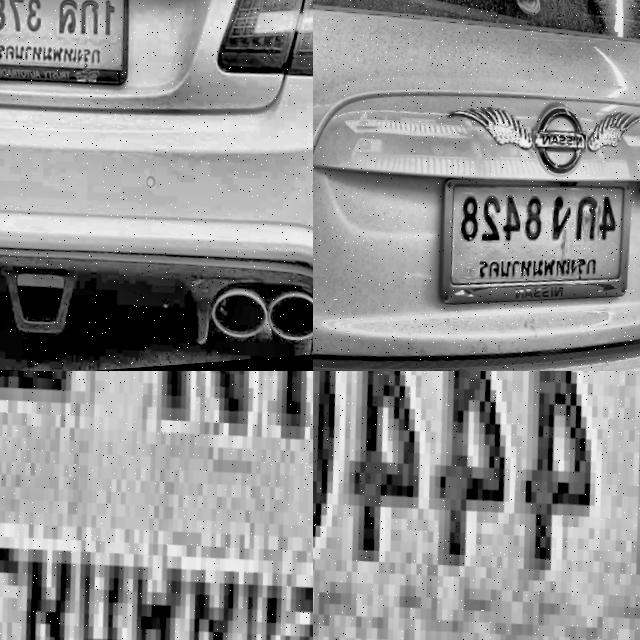license-plate: (313, 371, 640, 640), (0, 371, 313, 640), (420, 161, 636, 335), (0, 0, 136, 109)
